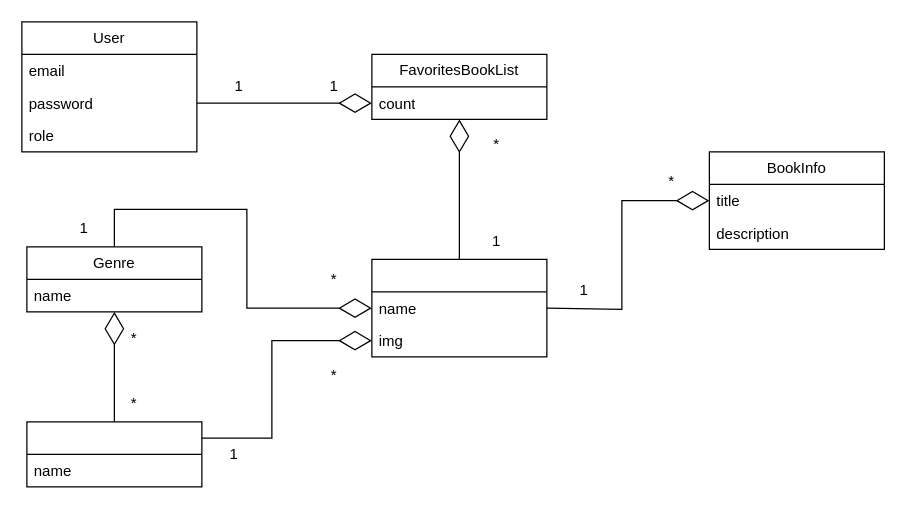
Image size: 906x513. Some labels were removed from this diagram. The box of each missing label's shape, as (x1, y1, x2, y2) in pixels:
Author: (26, 421, 202, 487)
Book: (371, 258, 547, 357)
